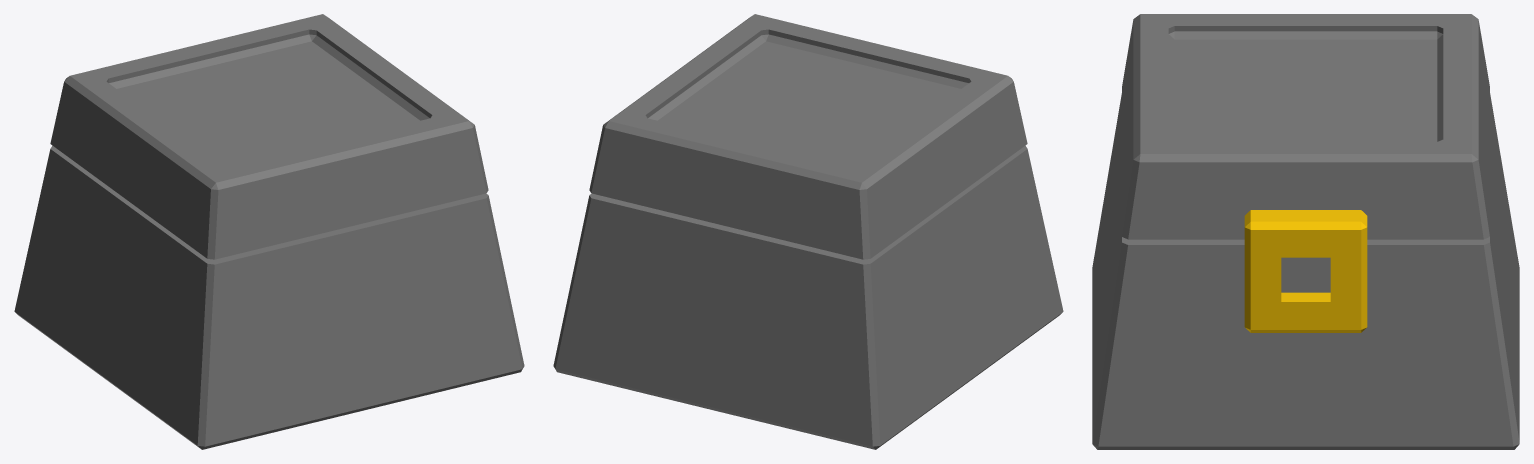
File: HJD_FP_chest00.fbx
The picture shows the model from 3 angles, left to right: view 1: azimuth 30°, elevation 25°; view 2: azimuth 150°, elevation 25°; view 3: azimuth 270°, elevation 25°; orthographic projection. The views are drawn at different scales.
Parts seen in each view (by area): view 1: transform_unity_scale17; view 2: transform_unity_scale17; view 3: transform_unity_scale17.
Part boxes in pixels (x1,y1,x2,y2): transform_unity_scale17: [14, 14, 524, 449]; transform_unity_scale17: [553, 14, 1063, 449]; transform_unity_scale17: [1092, 14, 1519, 449].
Size of the model in its own units: 69.72 by 50 by 69.72.
